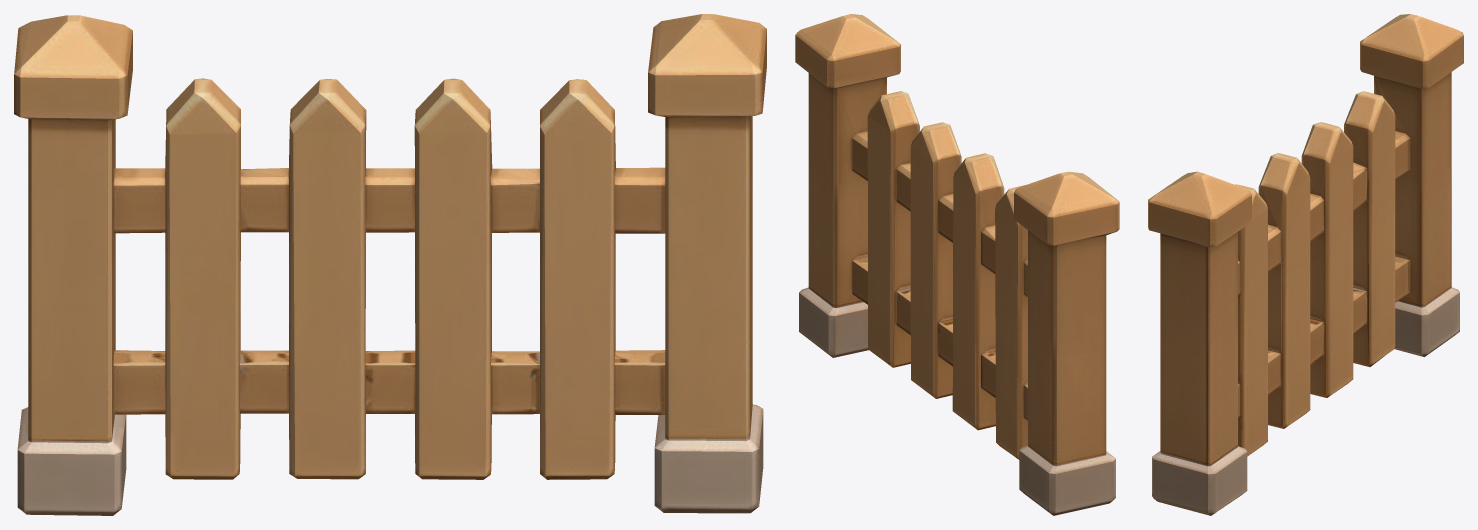
Rendered from fence-7k7Q9CbR.glb.
3 views of the same model, side by side, from view 1: azimuth 30°, elevation 25°; view 2: azimuth 150°, elevation 25°; view 3: azimuth 270°, elevation 25° (orthographic). The views are drawn at different scales.
Parts seen in each view (by area): view 1: tripo_node_b0fd00b7-04a9-4166-8ecb-3f7d1b082b5a; view 2: tripo_node_b0fd00b7-04a9-4166-8ecb-3f7d1b082b5a; view 3: tripo_node_b0fd00b7-04a9-4166-8ecb-3f7d1b082b5a.
Boxes of the visible parts, left/top/right/bottom form: tripo_node_b0fd00b7-04a9-4166-8ecb-3f7d1b082b5a: left=14, top=14, right=766, bottom=515; tripo_node_b0fd00b7-04a9-4166-8ecb-3f7d1b082b5a: left=795, top=14, right=1119, bottom=515; tripo_node_b0fd00b7-04a9-4166-8ecb-3f7d1b082b5a: left=1148, top=14, right=1463, bottom=515.
Bounding box in the file's own units: 0.9784 × 0.7294 × 0.6452.
Materials: 1 (1 with a texture image).
